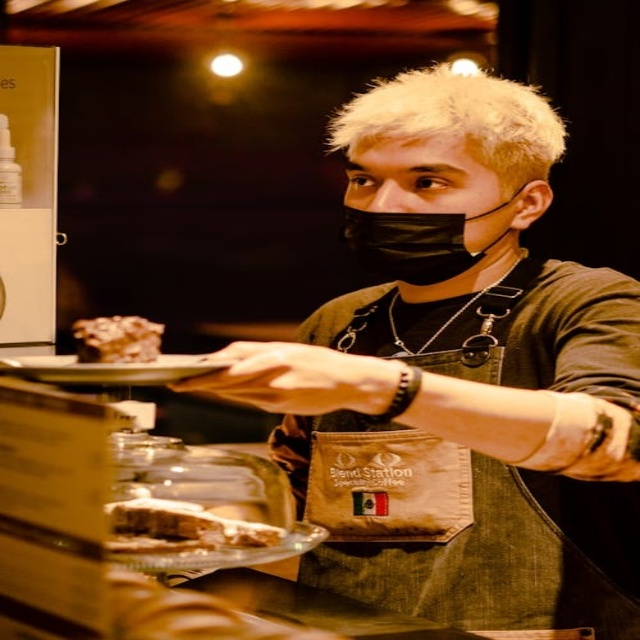Mascara: (342, 203, 498, 280)
Sin_gafas: (342, 156, 472, 198)
Sin_guantes: (168, 340, 406, 417)
